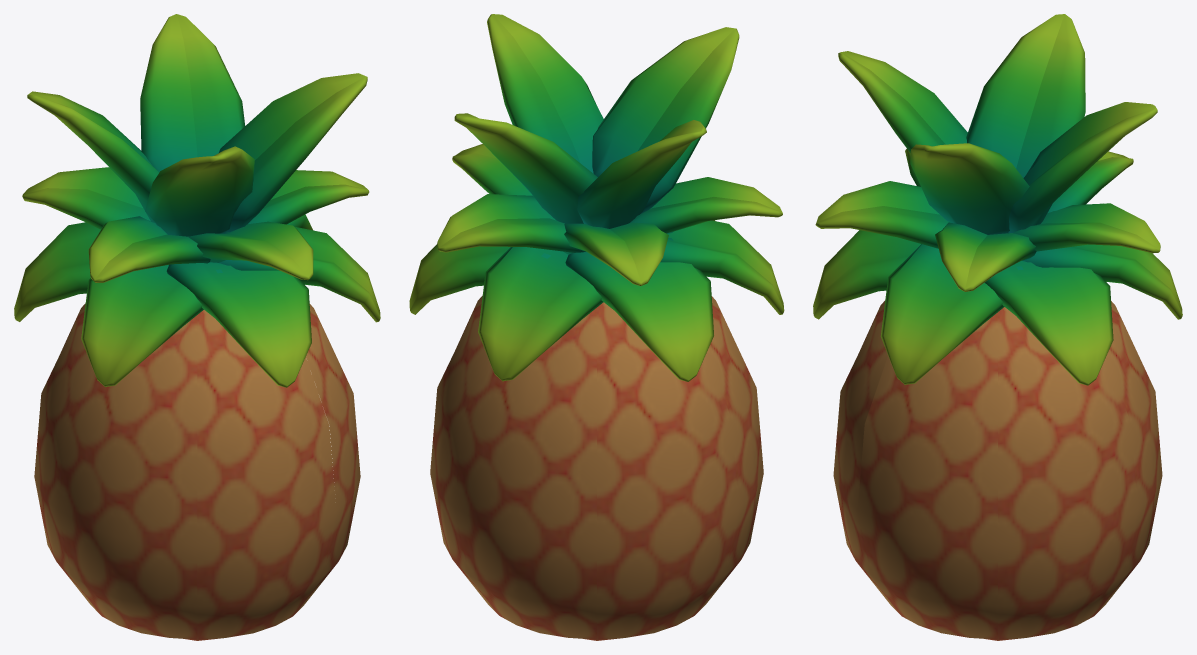
The model's file is Pineapple.glb.
3 views of the same model, side by side, from view 1: azimuth 30°, elevation 25°; view 2: azimuth 150°, elevation 25°; view 3: azimuth 270°, elevation 25° (orthographic). The views are drawn at different scales.
Visible parts, largest first — view 1: geometry_0; view 2: geometry_0; view 3: geometry_0.
Boxes of the visible parts, x1=… form: geometry_0: x1=14, y1=14, x2=380, y2=640; geometry_0: x1=409, y1=14, x2=784, y2=640; geometry_0: x1=813, y1=14, x2=1182, y2=640.
Size of the model in its own units: 0.2277 by 0.3953 by 0.2425.
1 material, 1 textured.
